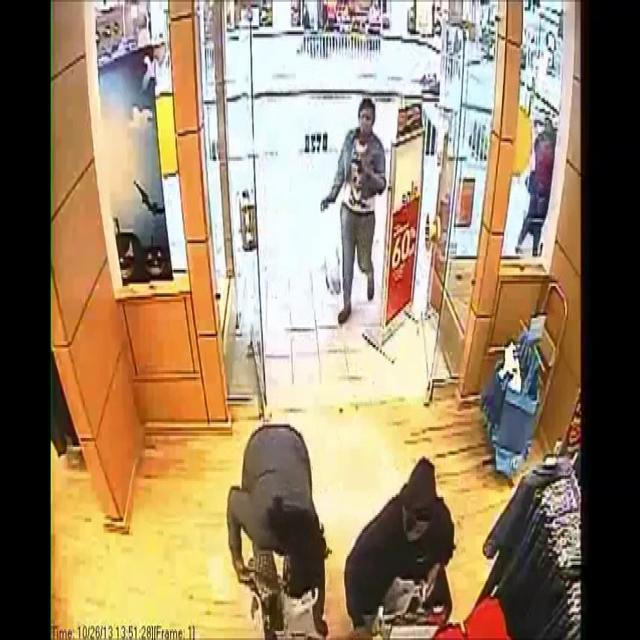normal: (333, 68, 391, 272)
shoplifting: (225, 253, 339, 640), (349, 259, 456, 640)
